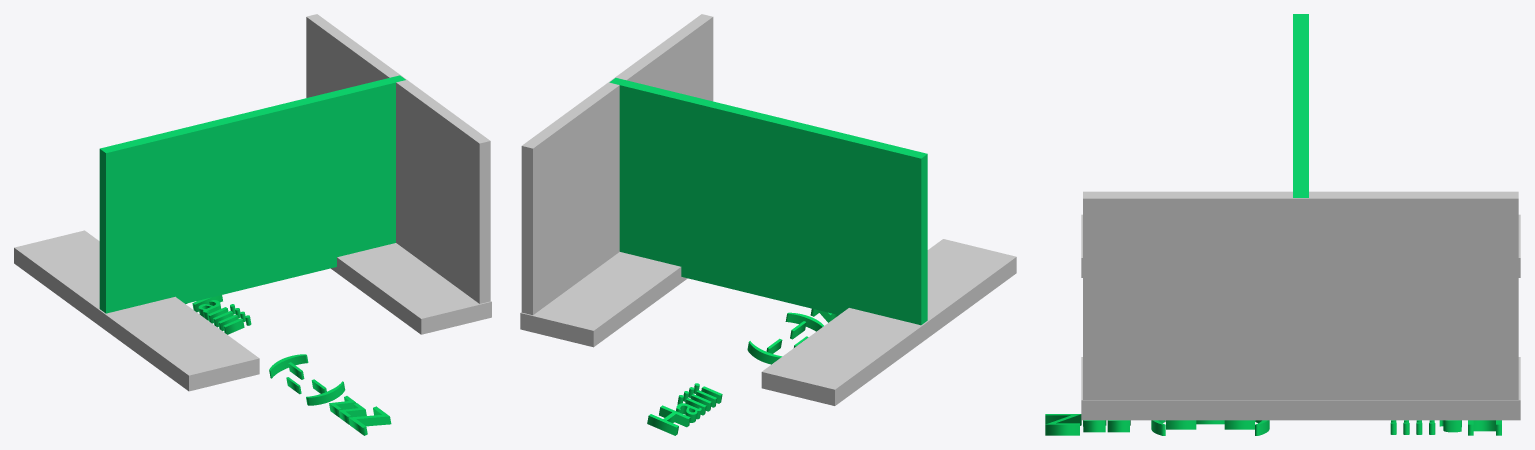
Rendered from level5-ESENYVAj.glb.
3 views of the same model, side by side, from view 1: azimuth 30°, elevation 25°; view 2: azimuth 150°, elevation 25°; view 3: azimuth 270°, elevation 25° (orthographic). The views are drawn at different scales.
Parts seen in each view (by area): view 1: Cube.001, Cube.002, Cube.003, Cube, Text_X; view 2: Cube.001, Cube.002, Cube.003, Cube, Text_X; view 3: Cube.002, Cube, Text_X, Cube.001.
Boxes of the visible parts, x1,y1,x2,y2 form: Cube.001: [99, 75, 405, 313]; Cube.002: [306, 14, 490, 303]; Cube.003: [14, 230, 259, 391]; Cube: [331, 243, 491, 334]; Text_X: [186, 295, 391, 435]; Cube.001: [609, 78, 927, 325]; Cube.002: [521, 14, 713, 315]; Cube.003: [761, 239, 1016, 405]; Cube: [520, 252, 687, 347]; Text_X: [647, 308, 838, 435]; Cube.002: [1083, 191, 1518, 399]; Cube: [1081, 357, 1520, 420]; Text_X: [1045, 414, 1501, 435]; Cube.001: [1293, 14, 1308, 197].
Bounding box in the file's own units: 30 × 23.78 × 32.44.
